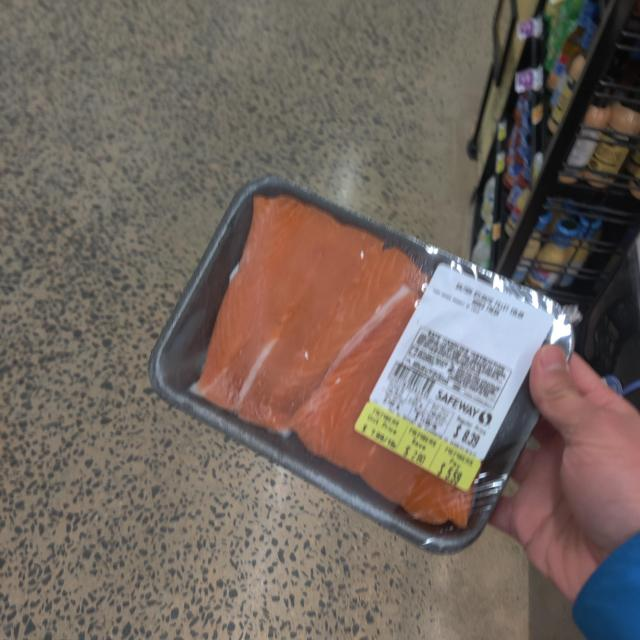Meat: (145, 174, 573, 547)
